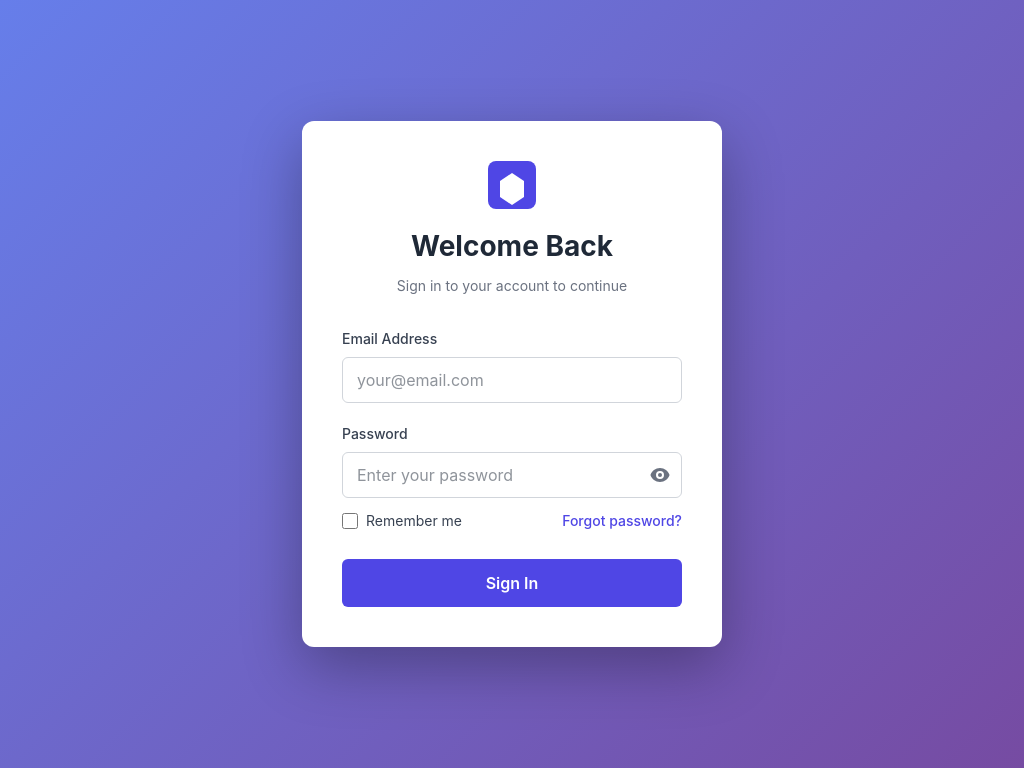
Test case: LoginPage › form submission › should display error message on login failure
This screenshot has width=1024, height=768.
Type "test@example.com" into the field labelled "Email Address" at (512, 380), box [342,357,682,403]
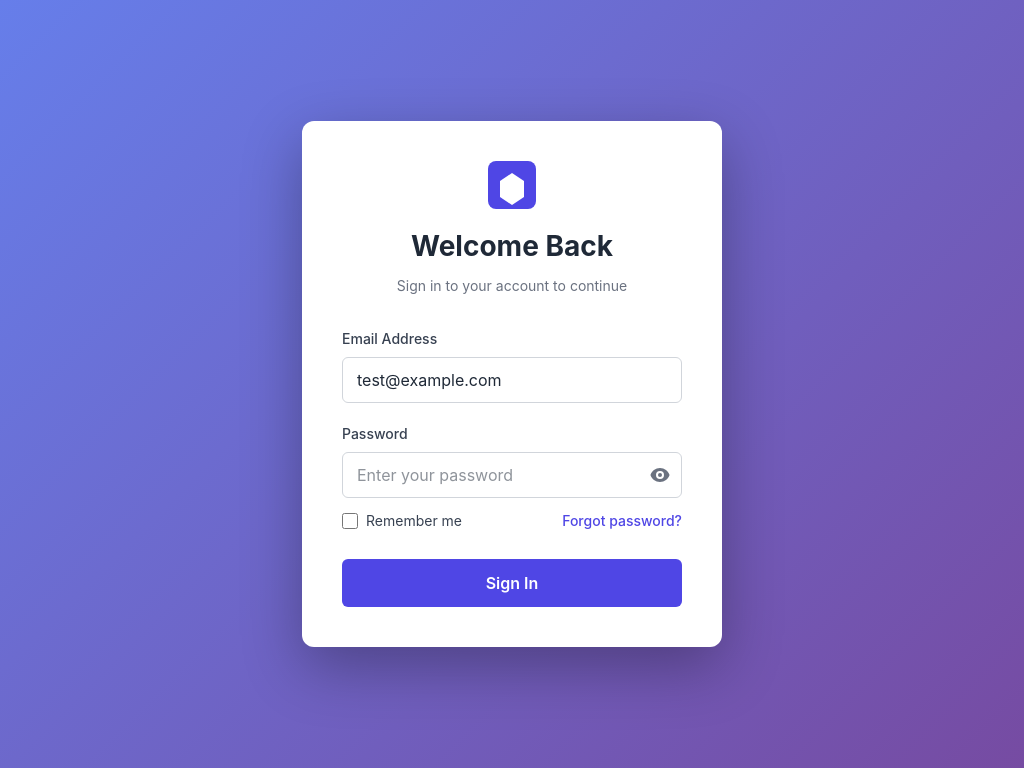
Type "wrong-password" into the password field labelled "Password" at (512, 475), box [342,452,682,498]
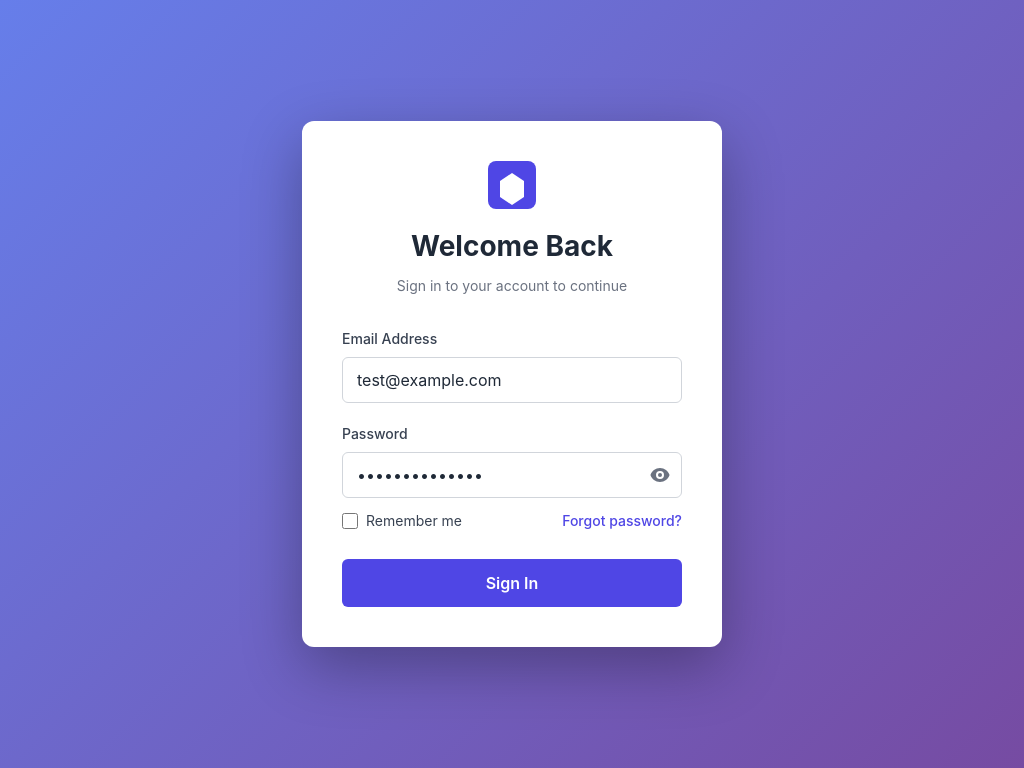
Click the button "Sign In" at (512, 583), box [342,559,682,607]
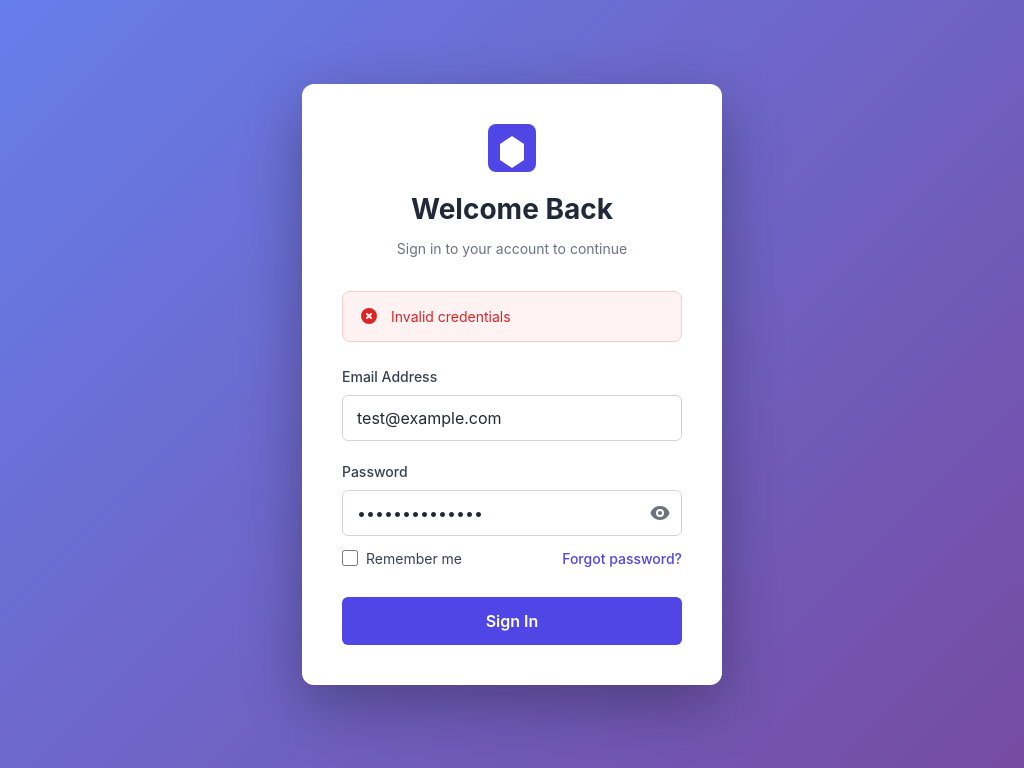
Expected: the text "Invalid credentials" is shown, [342,290,682,342]
